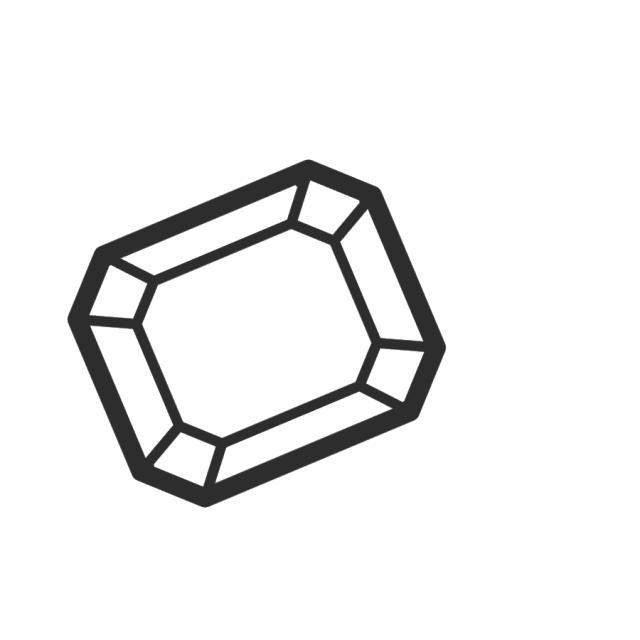emerald: (61, 154, 453, 518)
